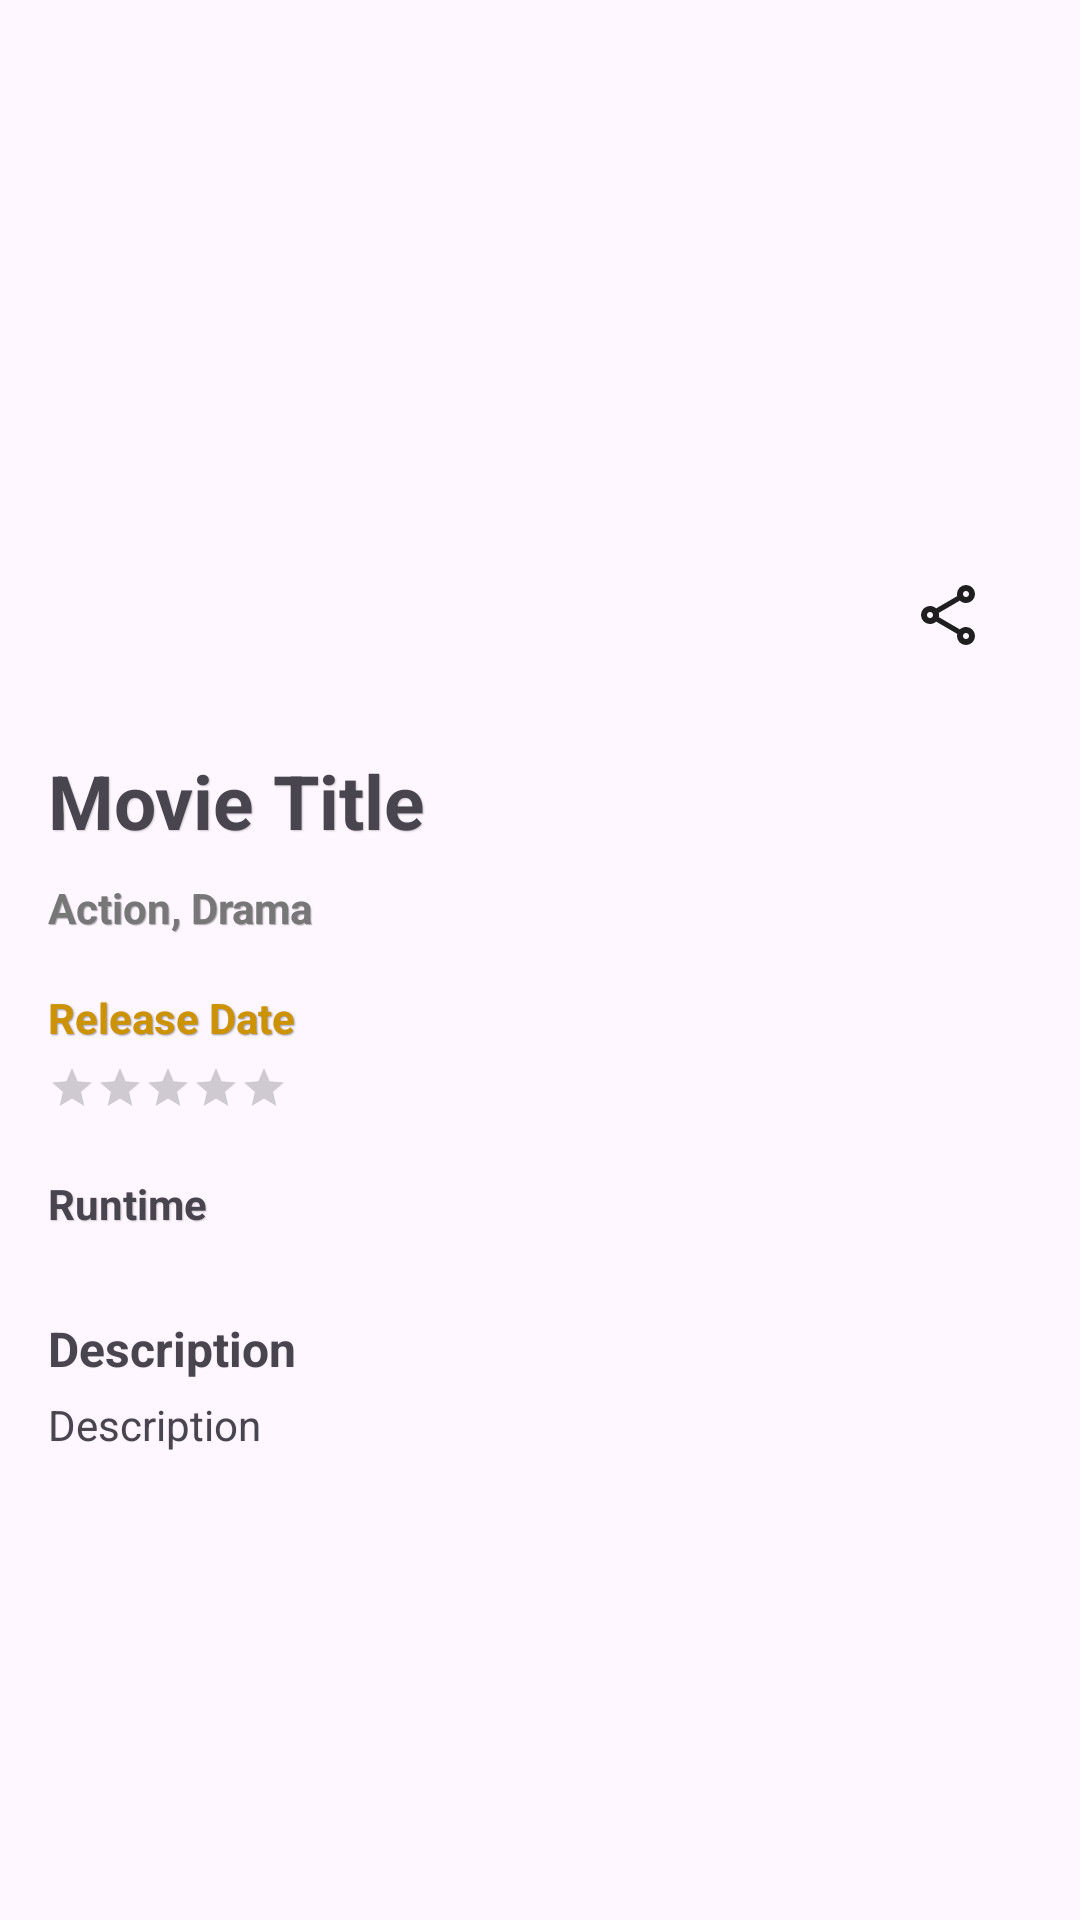

Where icons sit on this 1080 x 1920 app screen, as Rect(x1, y1, x2, y2):
Share: Rect(921, 585, 975, 645)
